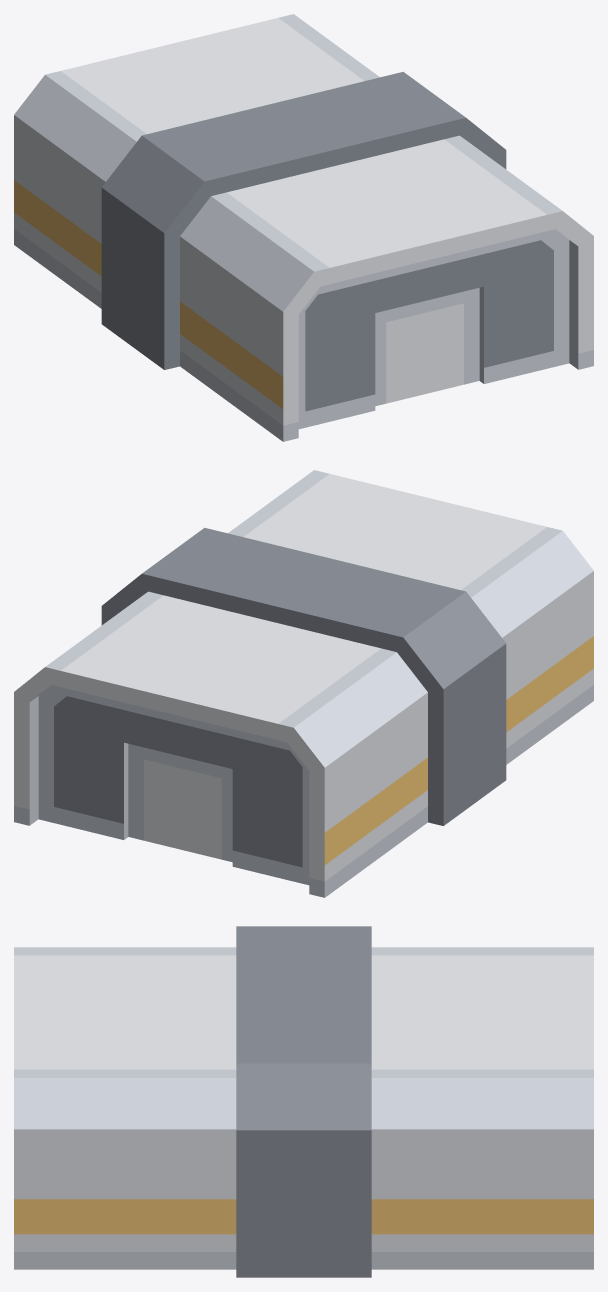
The model's file is hangar_largeB.glb.
3 views of the same model, one above another, from view 1: azimuth 30°, elevation 25°; view 2: azimuth 150°, elevation 25°; view 3: azimuth 270°, elevation 25° (orthographic). The views are drawn at different scales.
Parts seen in each view (by area): view 1: hangar_largeB; view 2: hangar_largeB; view 3: hangar_largeB.
Boxes of the visible parts, box(x1,y1,x2,y2) form: hangar_largeB: box(14, 14, 593, 441); hangar_largeB: box(14, 470, 593, 897); hangar_largeB: box(14, 926, 593, 1277).
Size of the model in its own units: 2.2 by 1.1 by 3.
